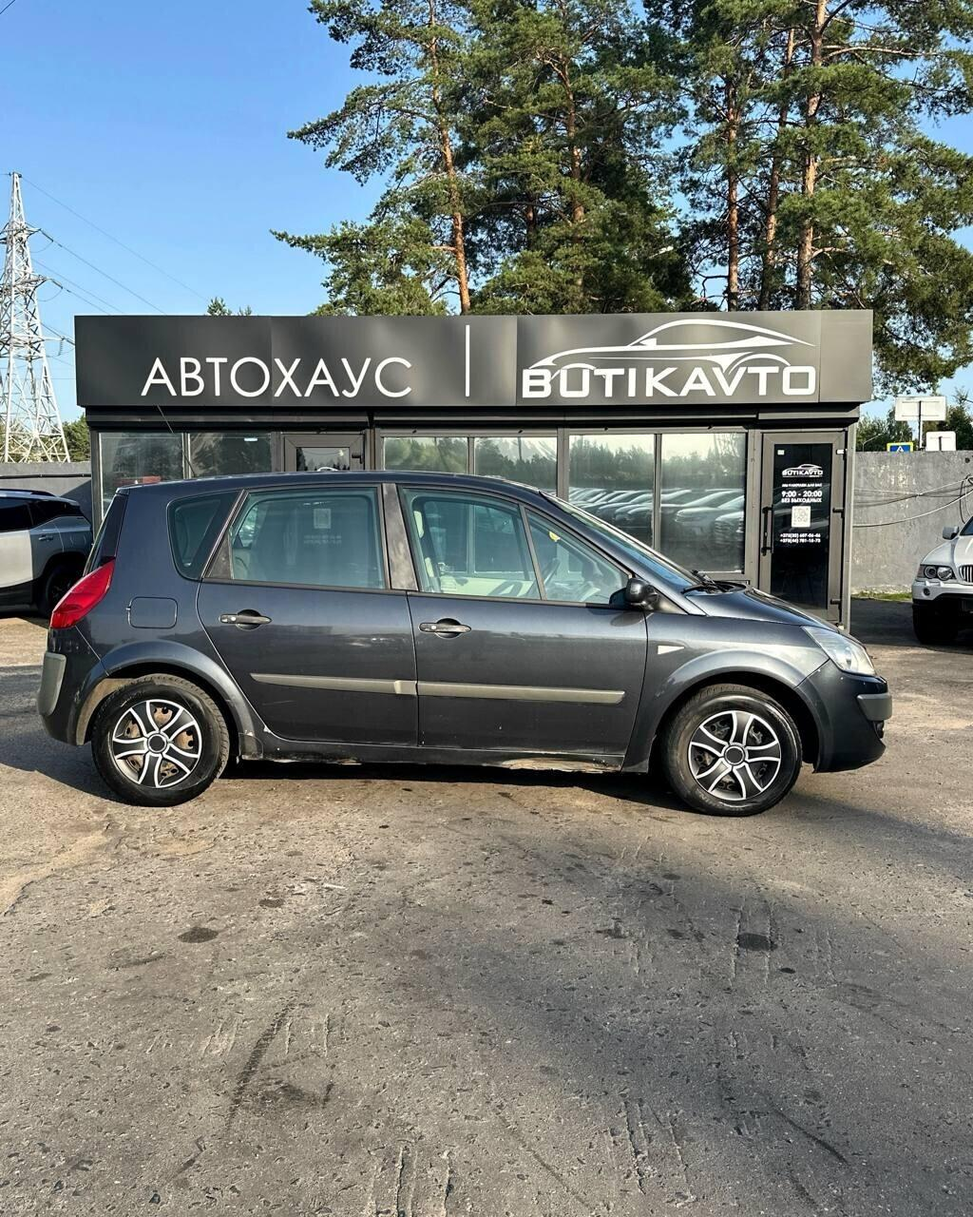Megane_2005-2009: (32, 461, 895, 830)
